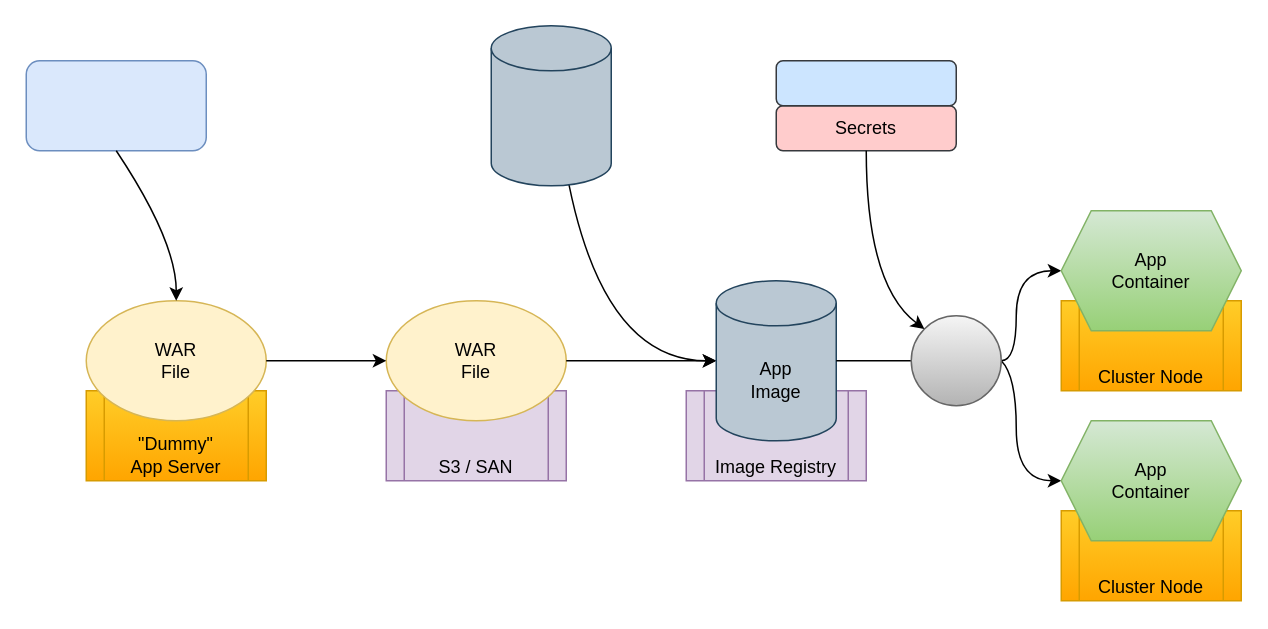
The diagram is 1268 pixels wide and 629 high, and some of its shapes have lost their labels. The centre of each missing label's shape, as x and y in pixels:
Base Tomcat Image: the point at 550,105
Configuration: the point at 865,82
ECS/k8s Launch: the point at 955,360
ESM Upgrade: the point at 115,105
